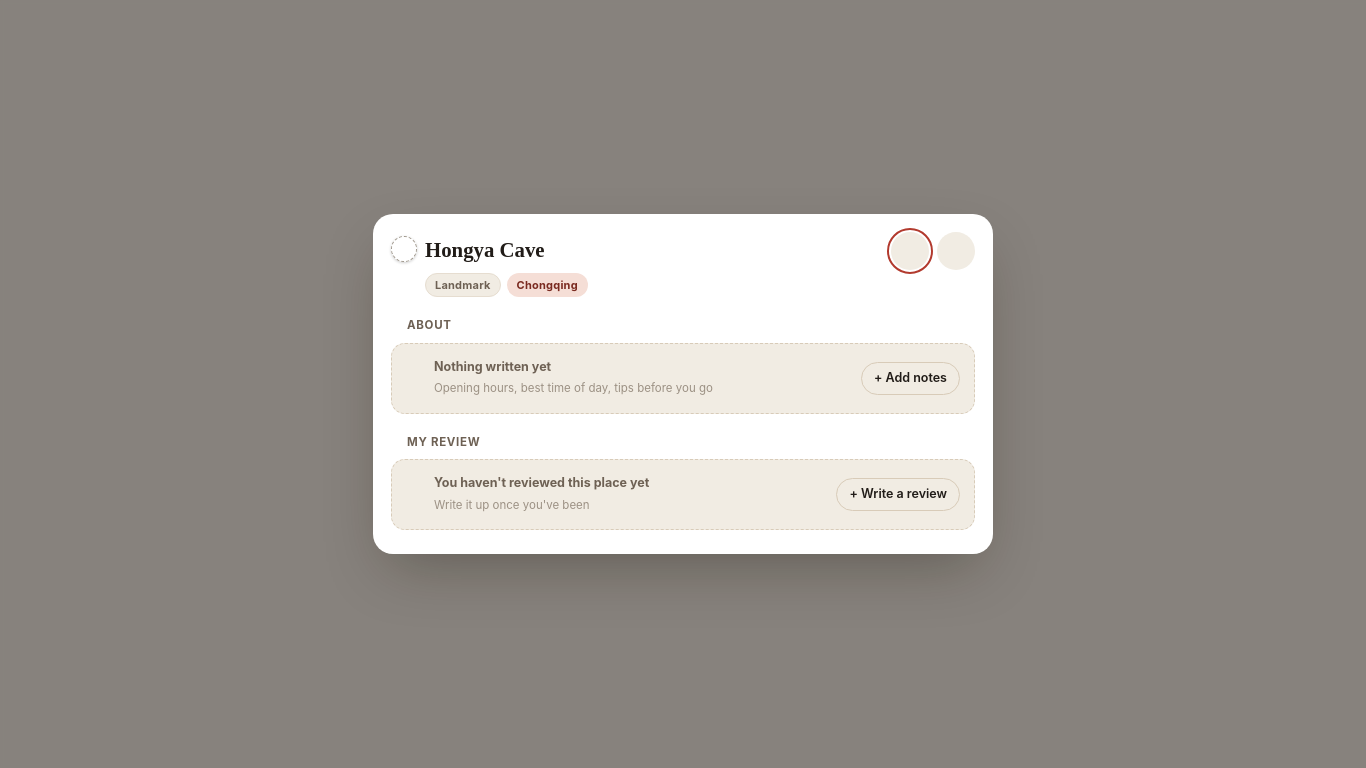
Test case: PlaceDetailModal — save › never renders the raw error — always the friendly fallback copy, even for a raw TypeError
This screenshot has width=1366, height=768.
Click the button "+ Write a review" at (898,495), box [836,478,960,511]
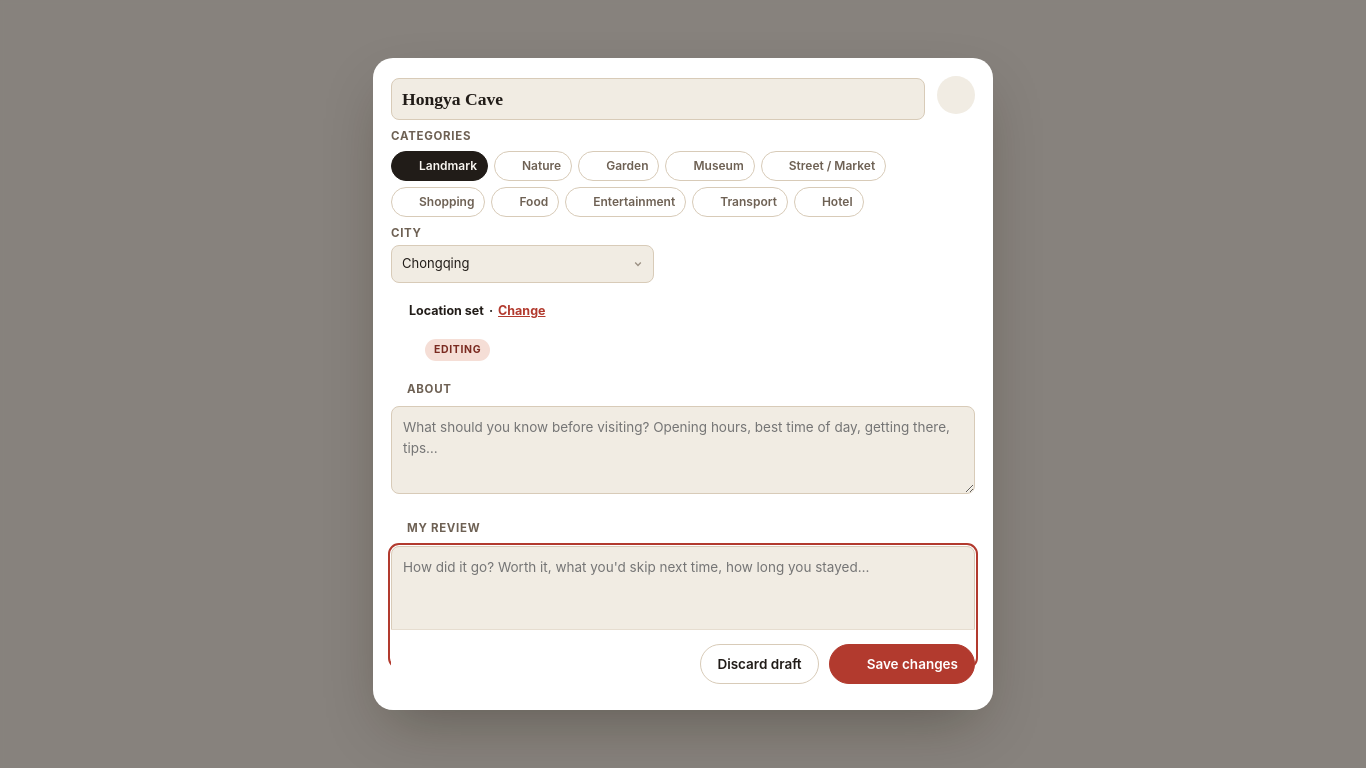
Replace the text in the text box with placeholder "How did it go" with "Great" at (683,606), box [391,546,975,666]
Wait 500 ms
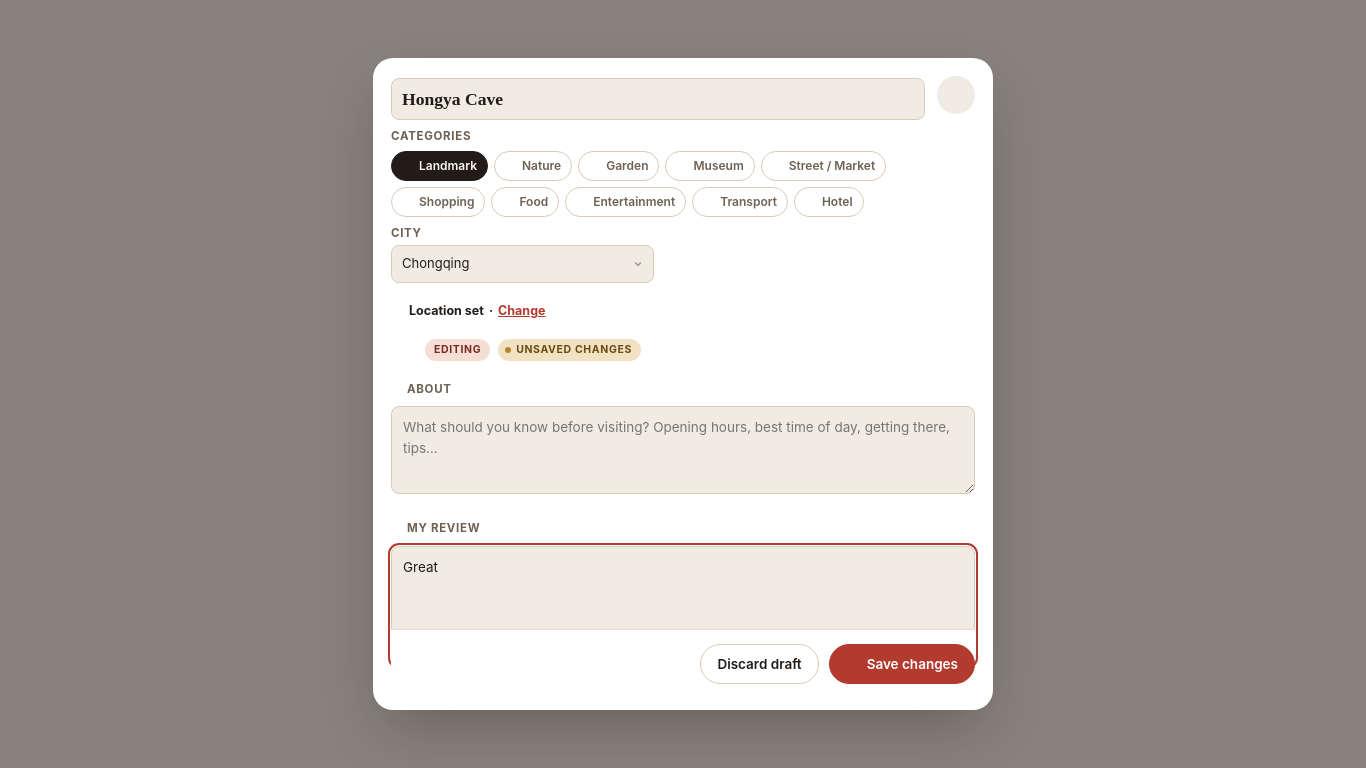
Click the button "Save changes" at (902,664), box [829,644,975,684]
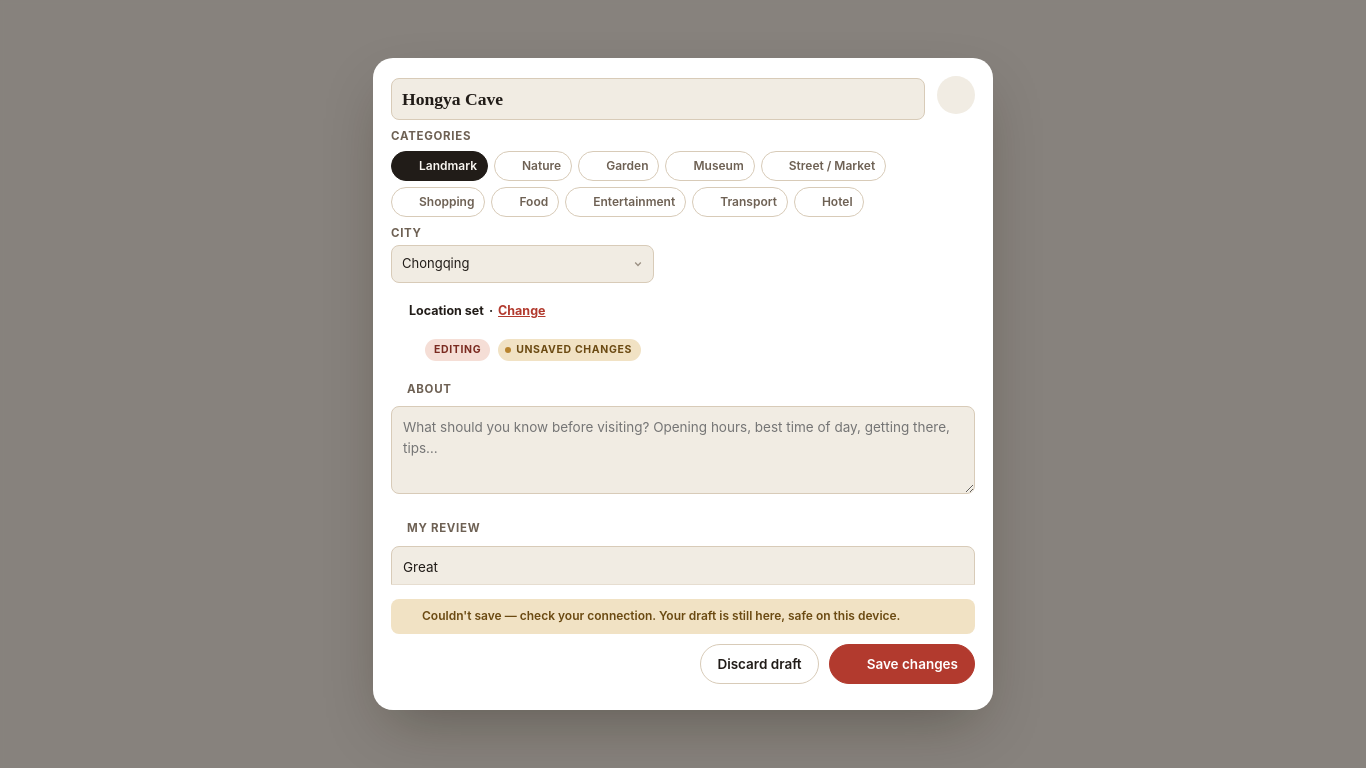
Expected: the message shows "Couldn't save — check your connection. Your draft is still here, safe on this device.", [422,608,900,623]
